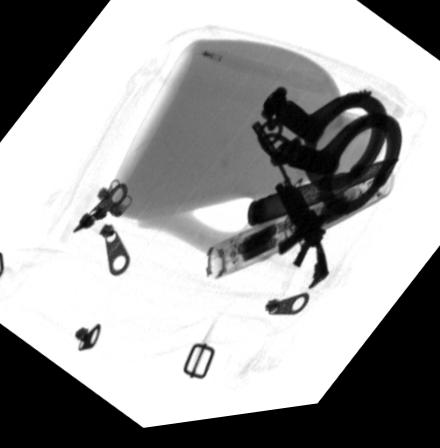Baton: (203, 178, 394, 286)
Bullet: (243, 169, 400, 237)
Gun: (250, 129, 326, 298)
HandCuffs: (255, 92, 400, 222)
